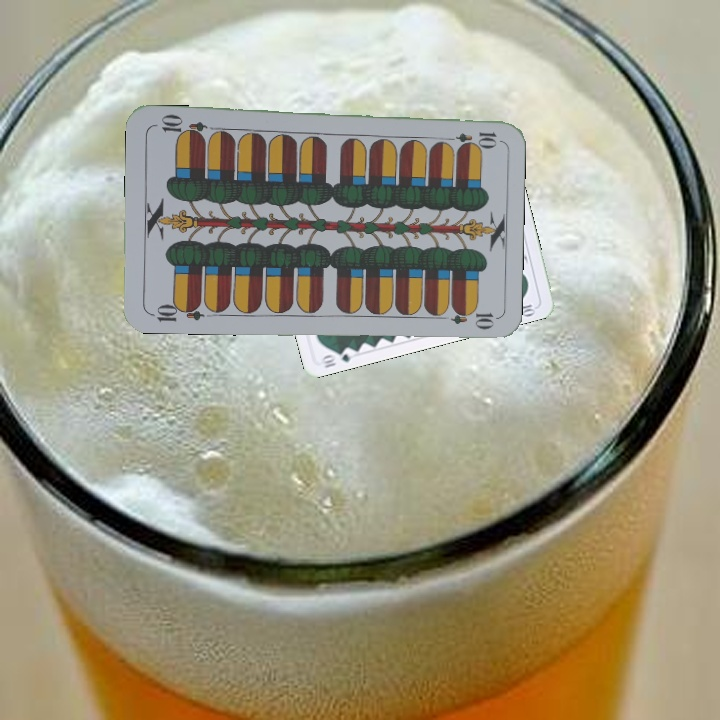E10: (146, 298, 205, 324), (440, 128, 499, 146)
G10: (318, 344, 358, 371)
